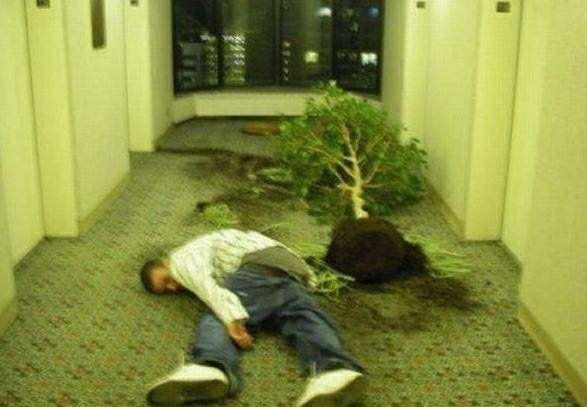falling: (124, 221, 388, 407)
